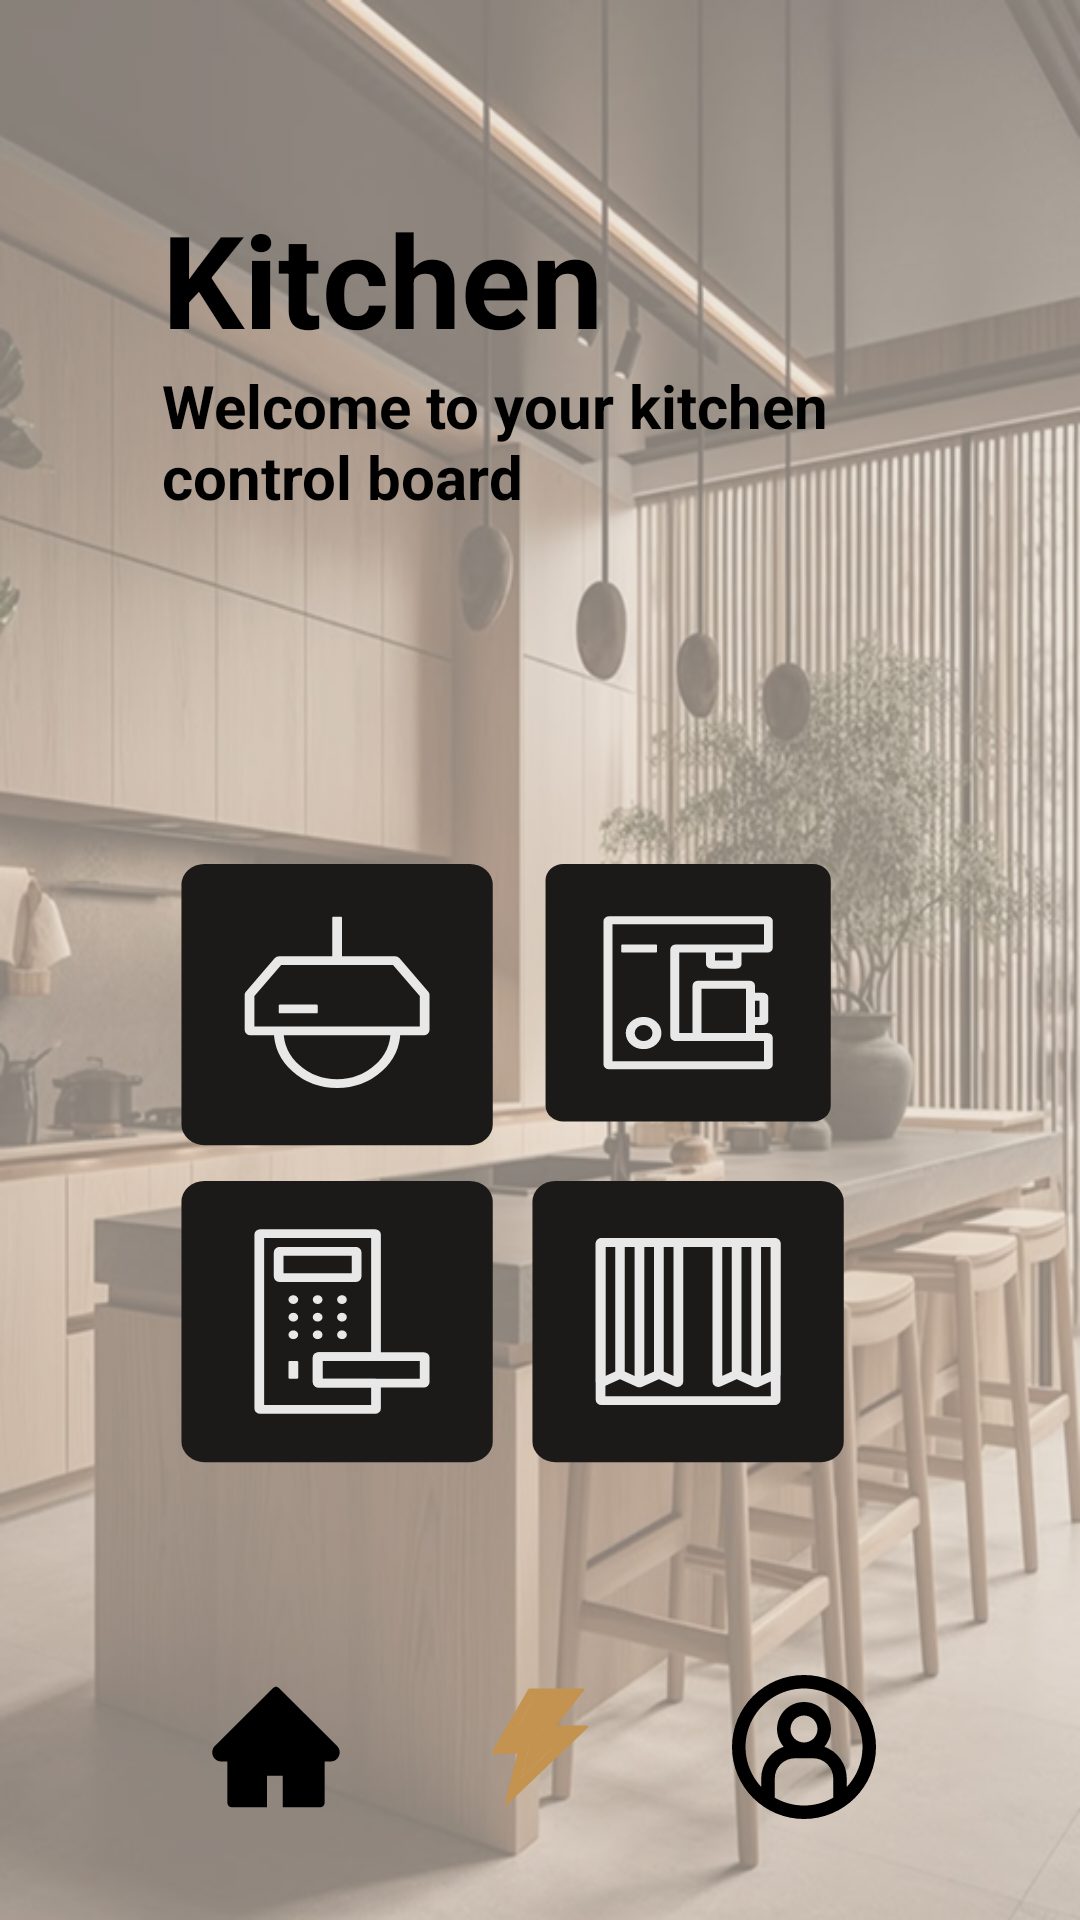

Screen size 1080 x 1920. Icon name, then its center in pixels as (x=x, y=y):
cofee: (x=688, y=1022)
homep: (x=276, y=1747)
light: (x=337, y=1022)
profilep: (x=804, y=1747)
